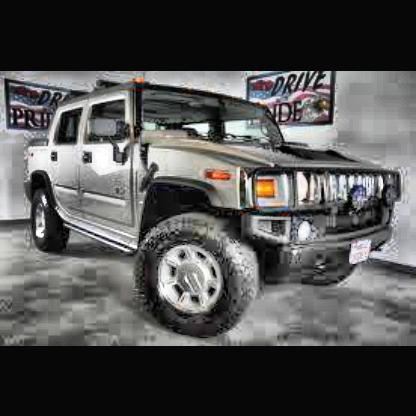HUMMER H2 SUT Crew Cab 2009: (26, 80, 405, 339)
